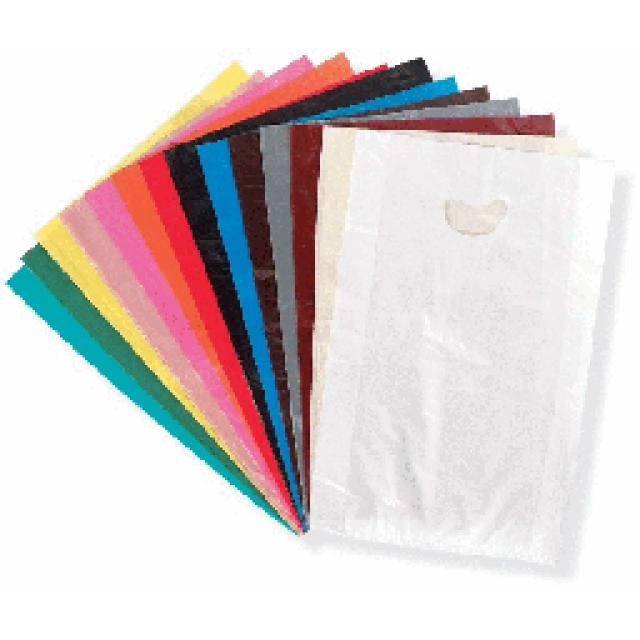plastic: (4, 51, 619, 577)
